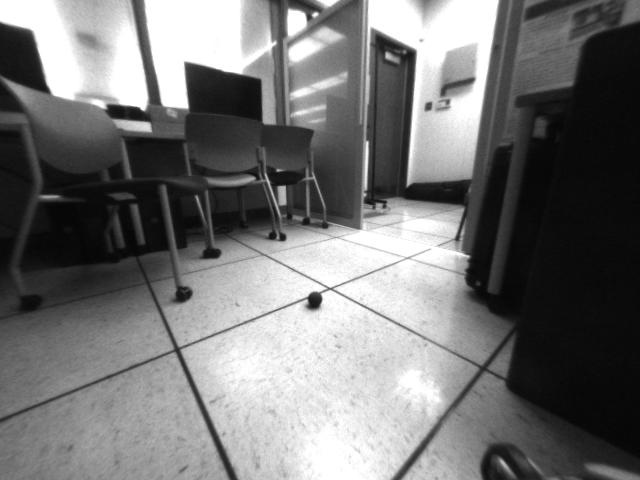dogtoy: (297, 286, 331, 316)
